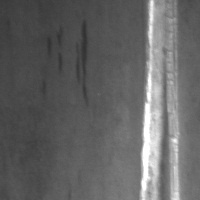inclusion: (73, 19, 92, 106), (46, 26, 66, 71)
scratches: (138, 1, 184, 199)
